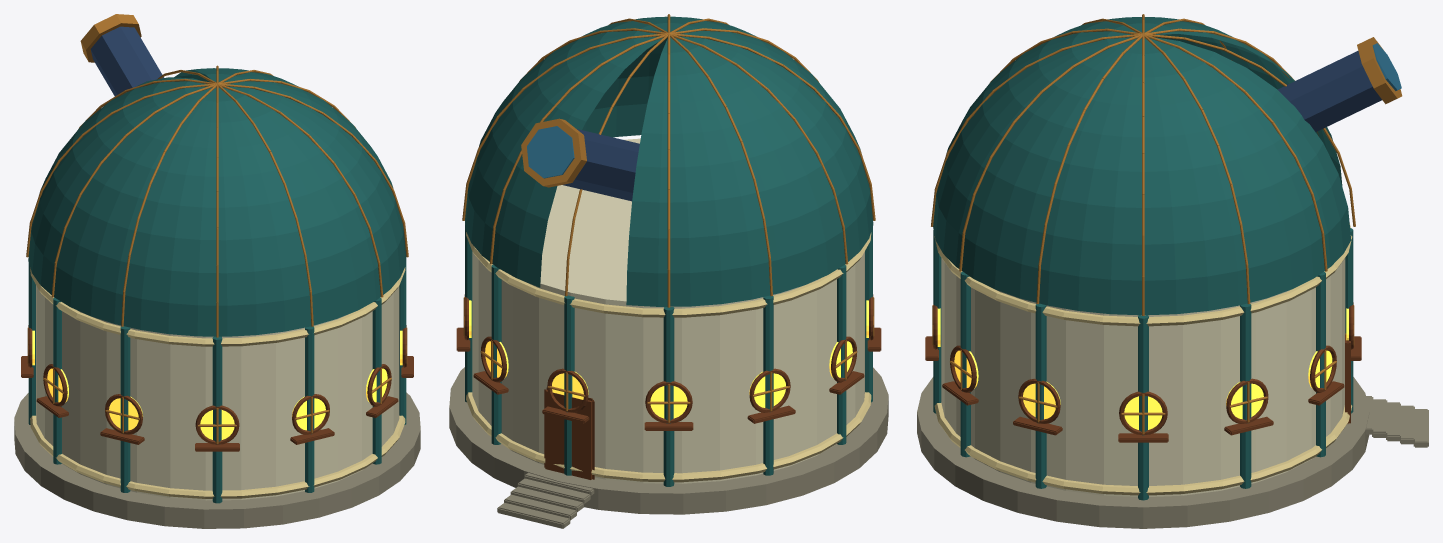
The model's file is observatory.glb.
3 views of the same model, side by side, from view 1: azimuth 30°, elevation 25°; view 2: azimuth 150°, elevation 25°; view 3: azimuth 270°, elevation 25° (orthographic). The views are drawn at different scales.
Parts seen in each view (by area): view 1: Tideglass ObservatoryMesh, TelescopeMesh, Observatory porthole.005Mesh, Observatory porthole.006Mesh, Observatory porthole.004Mesh, Observatory porthole.003Mesh, Observatory porthole.007Mesh, Observatory porthole.008Mesh, Observatory porthole.002Mesh; view 2: Tideglass ObservatoryMesh, TelescopeMesh, Observatory porthole.001Mesh, Observatory porthole.002Mesh, Observatory portholeMesh, Observatory porthole.003Mesh, Observatory porthole.011Mesh, Observatory porthole.004Mesh, Observatory porthole.010Mesh; view 3: Tideglass ObservatoryMesh, TelescopeMesh, Observatory porthole.009Mesh, Observatory porthole.010Mesh, Observatory porthole.008Mesh, Observatory porthole.007Mesh, Observatory porthole.011Mesh, Observatory porthole.006Mesh.
Part boxes in pixels (bbox=[...]): Tideglass ObservatoryMesh: bbox=[14, 65, 420, 528]; TelescopeMesh: bbox=[80, 14, 163, 96]; Observatory porthole.005Mesh: bbox=[195, 405, 239, 451]; Observatory porthole.006Mesh: bbox=[290, 394, 334, 444]; Observatory porthole.004Mesh: bbox=[100, 394, 144, 444]; Observatory porthole.003Mesh: bbox=[36, 364, 68, 417]; Observatory porthole.007Mesh: bbox=[366, 364, 398, 417]; Observatory porthole.008Mesh: bbox=[400, 325, 413, 377]; Observatory porthole.002Mesh: bbox=[21, 325, 34, 377]; Tideglass ObservatoryMesh: bbox=[449, 14, 888, 528]; TelescopeMesh: bbox=[521, 118, 639, 201]; Observatory porthole.001Mesh: bbox=[644, 381, 693, 430]; Observatory porthole.002Mesh: bbox=[747, 368, 795, 423]; Observatory portholeMesh: bbox=[542, 368, 589, 423]; Observatory porthole.003Mesh: bbox=[829, 336, 864, 394]; Observatory porthole.011Mesh: bbox=[473, 336, 508, 394]; Observatory porthole.004Mesh: bbox=[866, 294, 881, 351]; Observatory porthole.010Mesh: bbox=[456, 294, 471, 351]; Tideglass ObservatoryMesh: bbox=[917, 14, 1428, 528]; TelescopeMesh: bbox=[1277, 37, 1402, 132]; Observatory porthole.009Mesh: bbox=[1118, 391, 1168, 442]; Observatory porthole.010Mesh: bbox=[1224, 378, 1273, 435]; Observatory porthole.008Mesh: bbox=[1013, 378, 1062, 435]; Observatory porthole.007Mesh: bbox=[942, 345, 978, 405]; Observatory porthole.011Mesh: bbox=[1308, 345, 1344, 405]; Observatory porthole.006Mesh: bbox=[925, 304, 940, 360].
Size of the model in its own units: 11.4 by 11.1 by 12.89.
